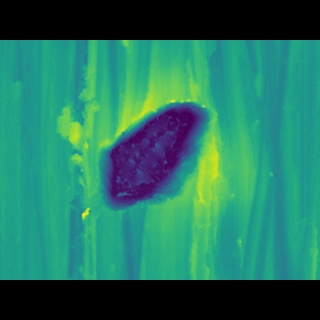Loch: (236, 68, 320, 250), (86, 112, 220, 200), (57, 69, 97, 249)
